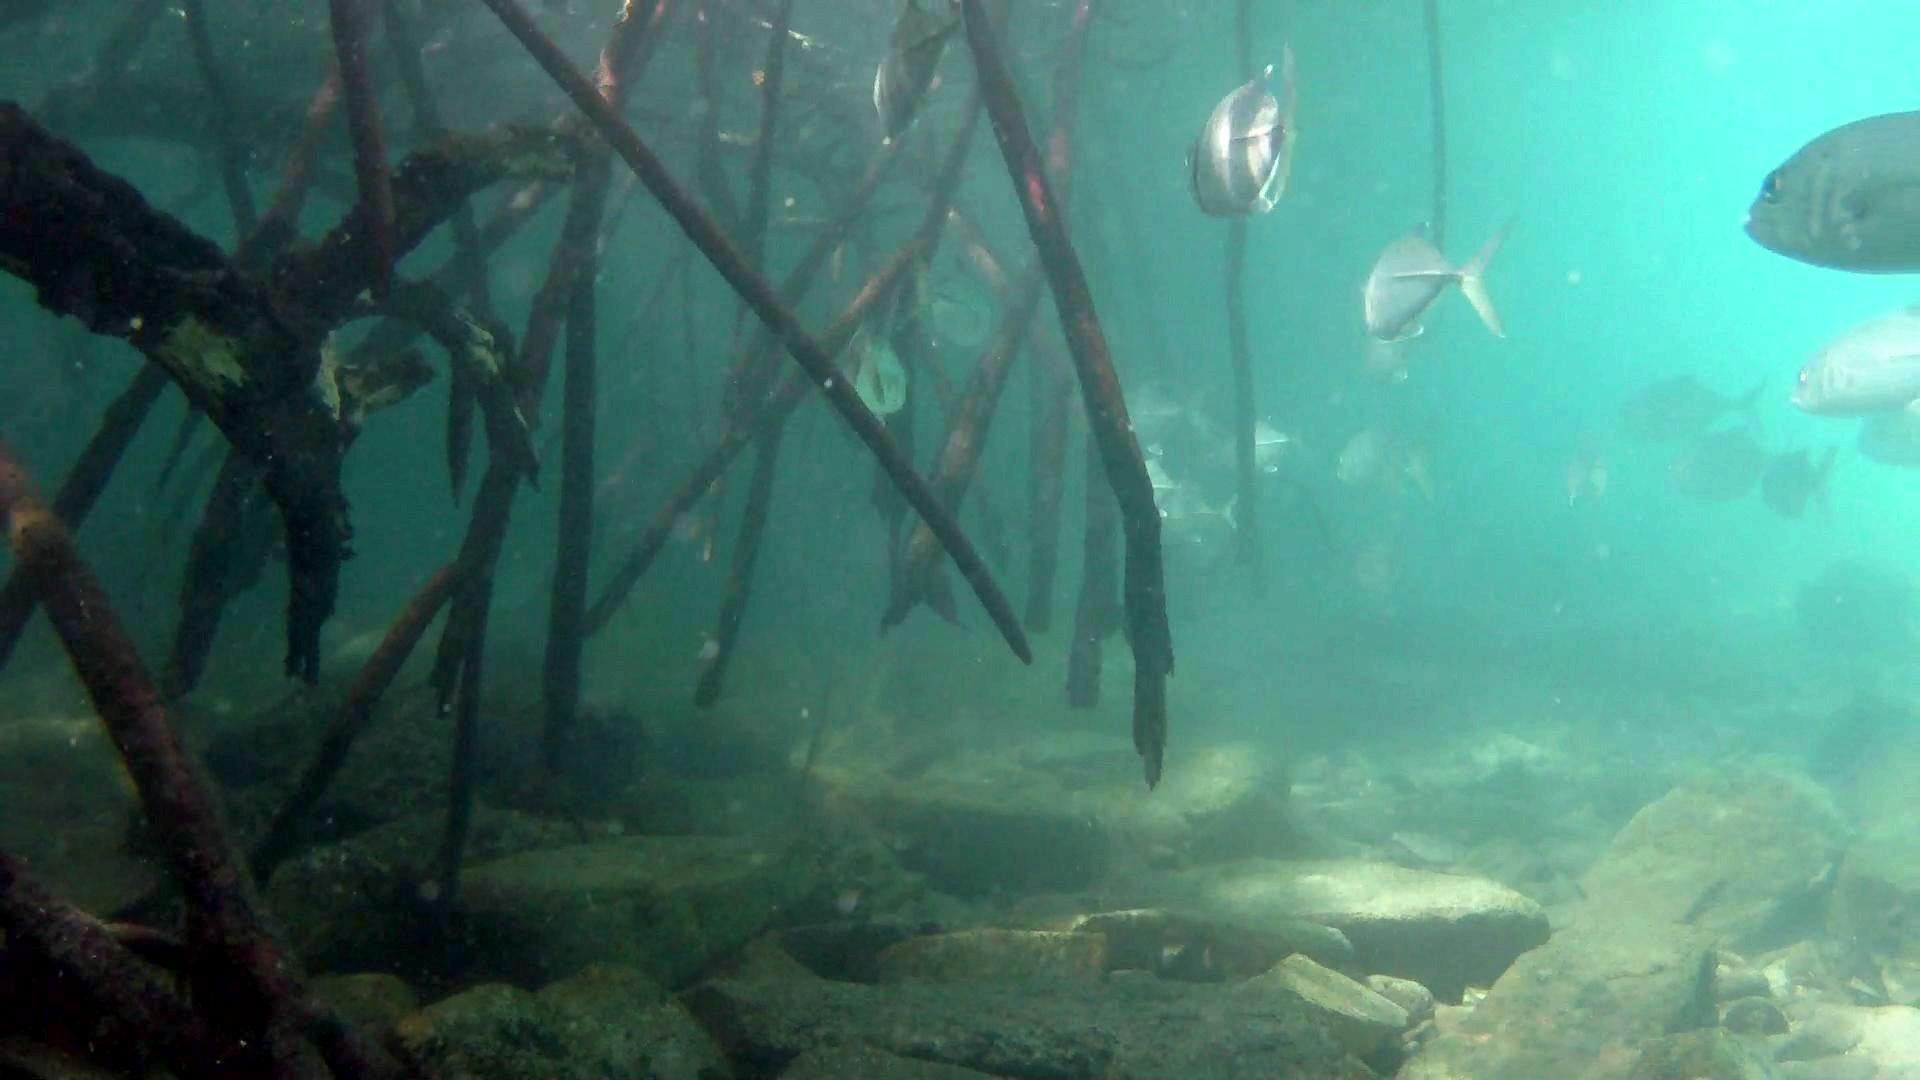caranx: (1735, 100, 1920, 282), (1175, 40, 1305, 229), (1357, 202, 1522, 347)
